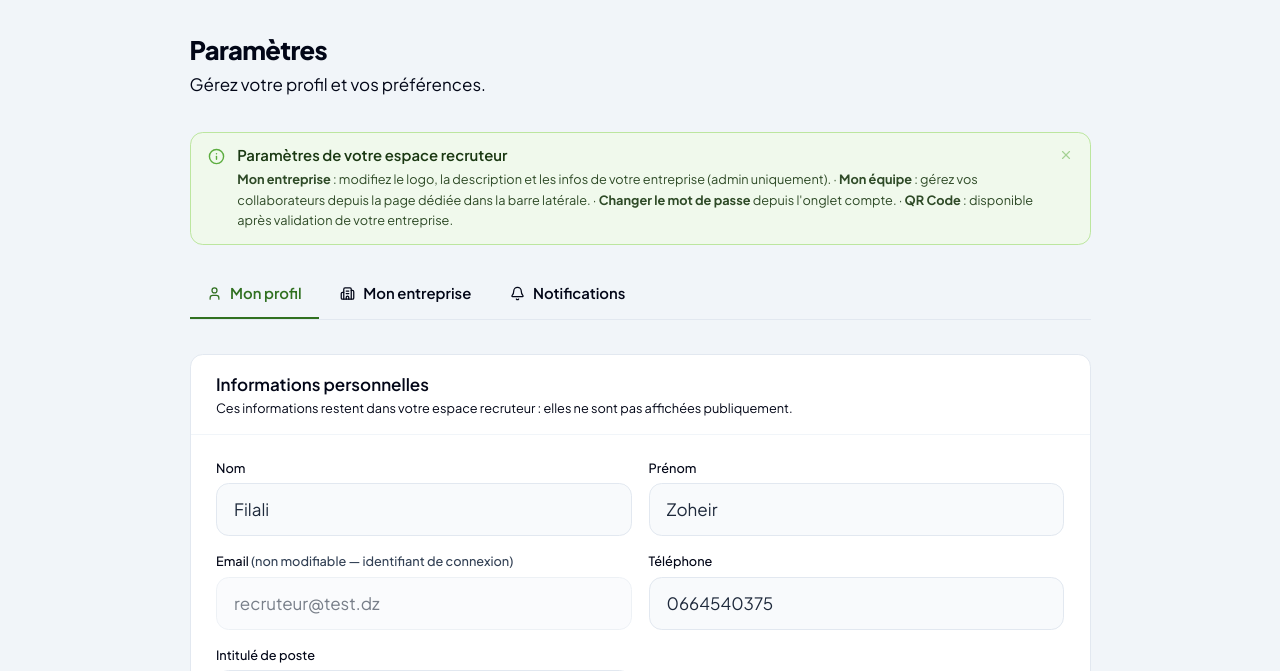
Test case: ⚙️ UI & Logique - Composant <ParametresRecruteur /> › 🔴 EC3 : Entreprise non approuvée affiche alerte
What coordinates should you click on to do the following:
click the button "Mon entreprise"
I would click on:
 (406, 295)
Its box is [323,270,488,319].
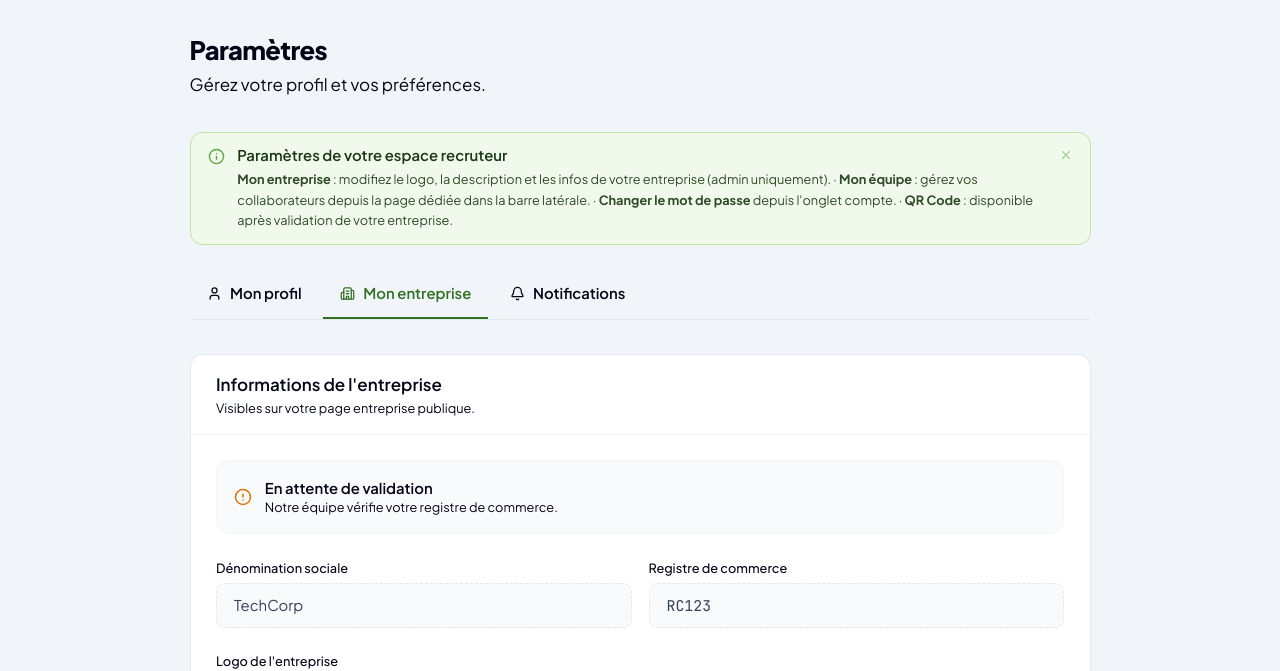
Now the text "En attente de validation" is shown, box [265,479,433,497]
